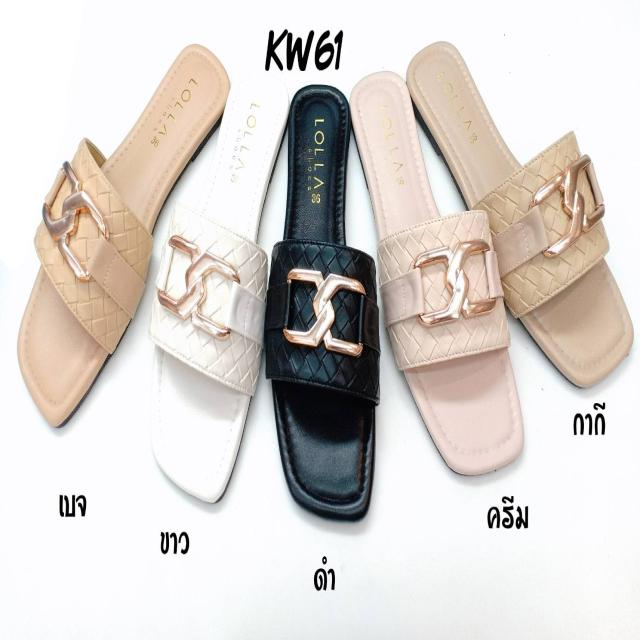bej: (21, 43, 225, 404)
black: (271, 77, 377, 516)
cream: (349, 73, 524, 471)
kakee: (408, 39, 624, 385)
white: (148, 62, 286, 500)
